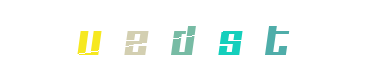2: (104, 0, 184, 80)
5: (185, 0, 265, 80)
D: (153, 0, 233, 80)
T: (190, 0, 270, 80)
U: (49, 0, 129, 80)
